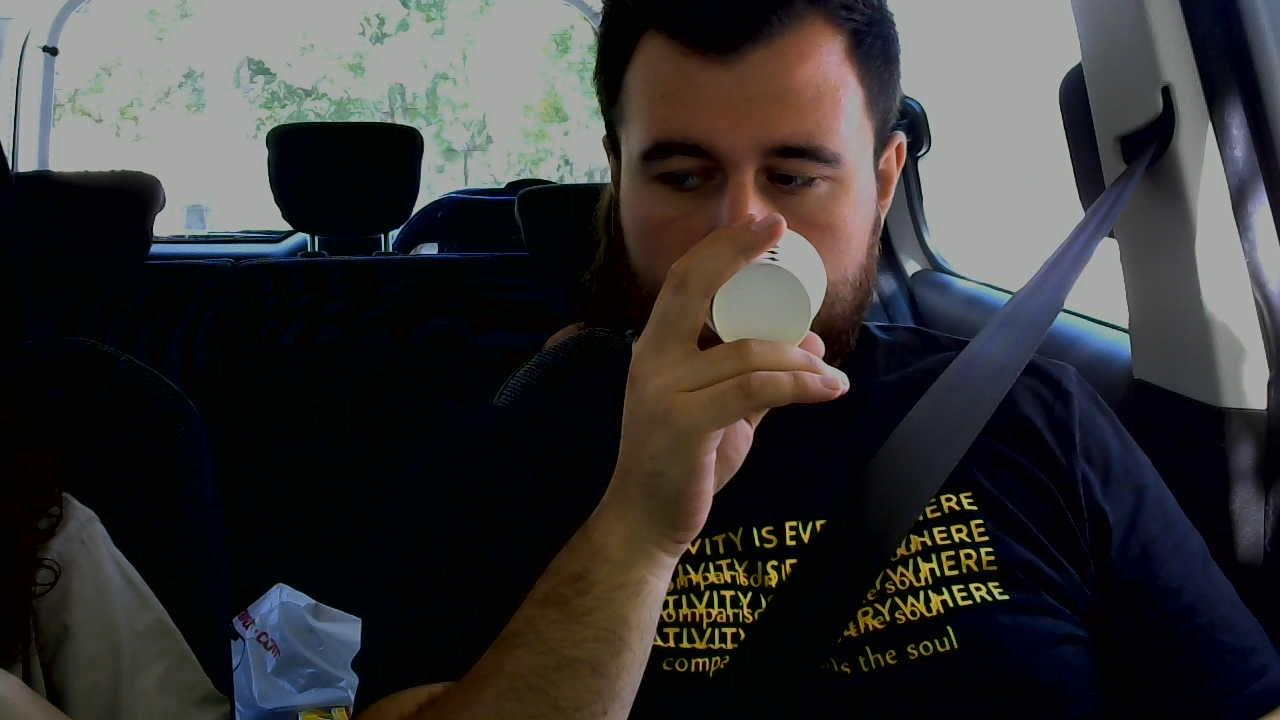Drinking: (603, 3, 906, 402)
